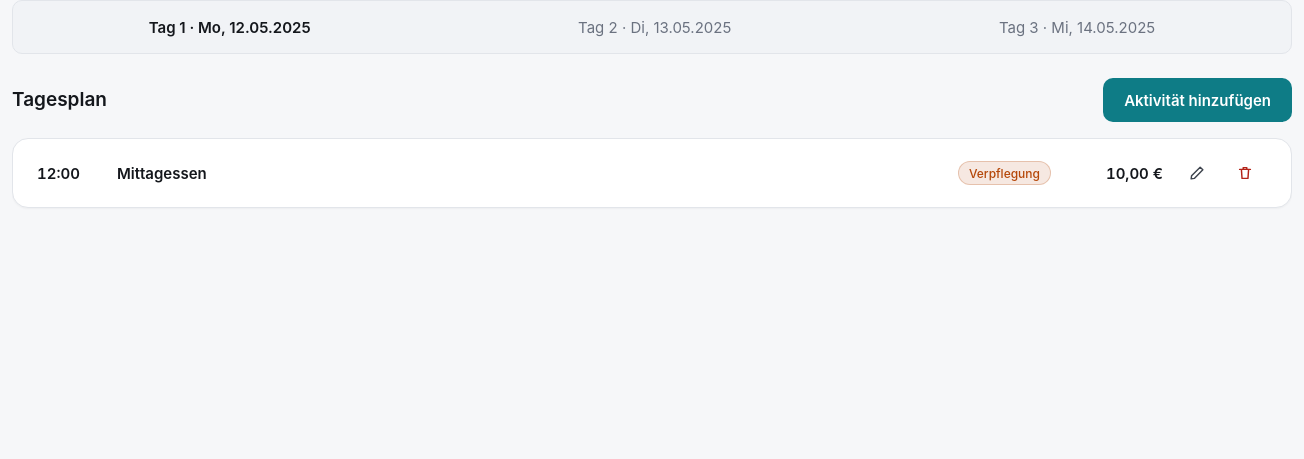
Test: TripDetailPage — day plan › places a new activity at its time-sorted position
The image size is (1304, 459).
Click the button "Aktivität hinzufügen" at (1198,100), box [1103,78,1292,122]
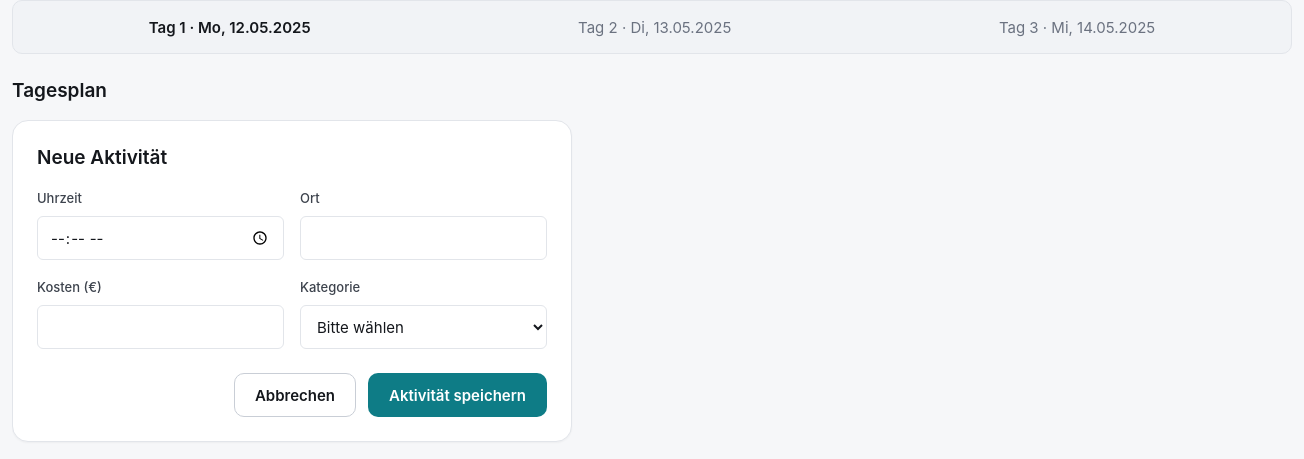
Type "09:00" into the time field labelled "Uhrzeit" at (160,238), box [37,216,284,260]
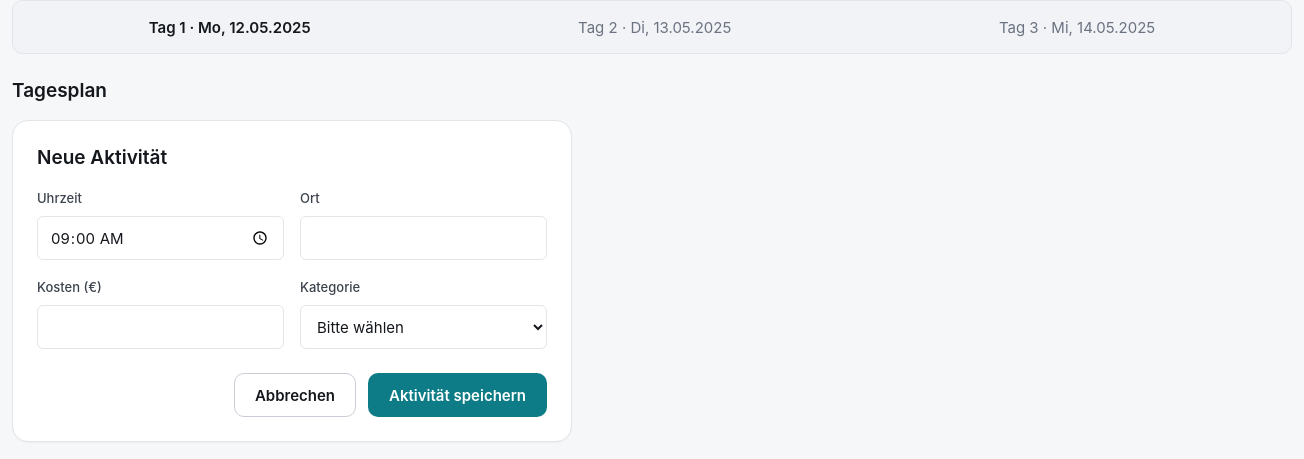
Type "Frühstück" into the field labelled "Ort" at (424,238), box [300,216,547,260]
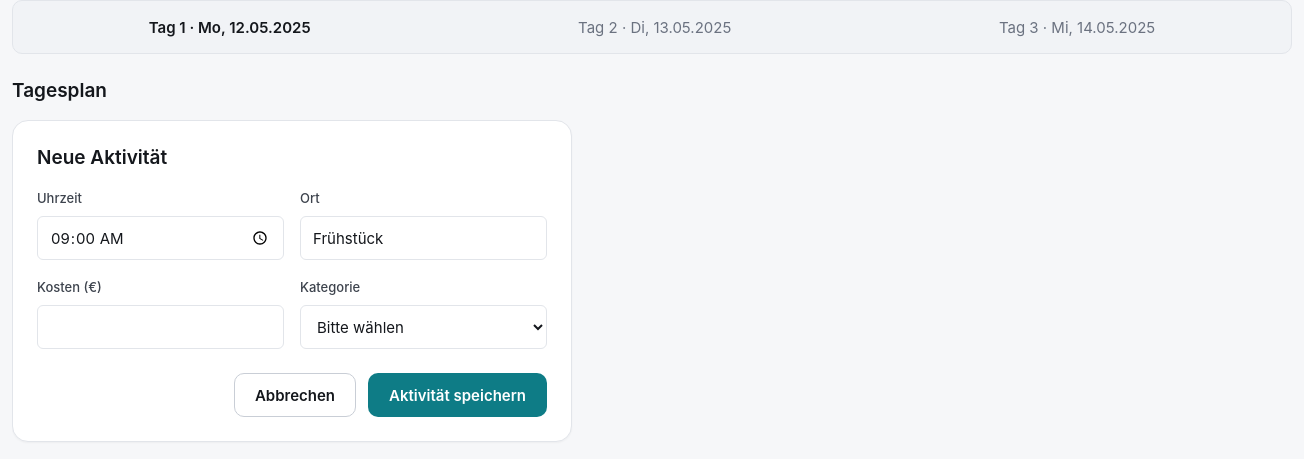
Type "5" into the number field labelled "Kosten (€)" at (160,327), box [37,305,284,349]
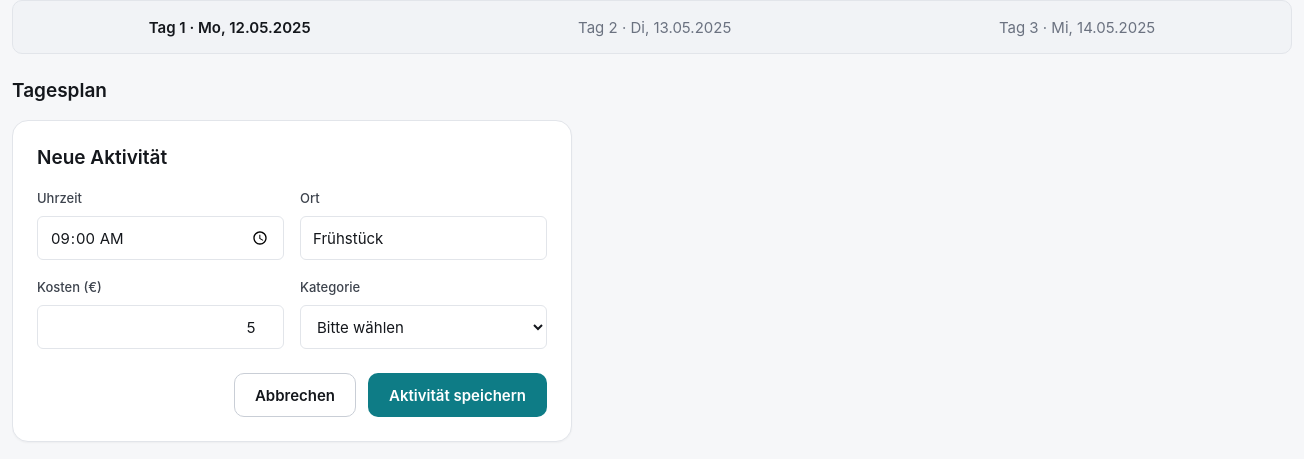
Select "Verpflegung" in the dropdown labelled "Kategorie" at (424,327), box [300,305,547,349]
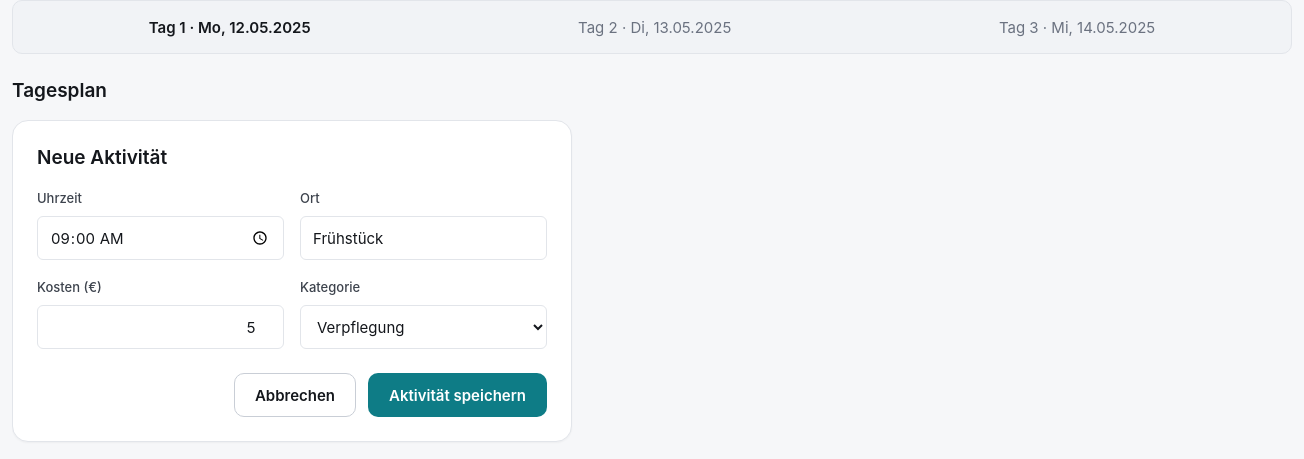
Click the button "Aktivität speichern" at (458,395), box [368,373,547,417]
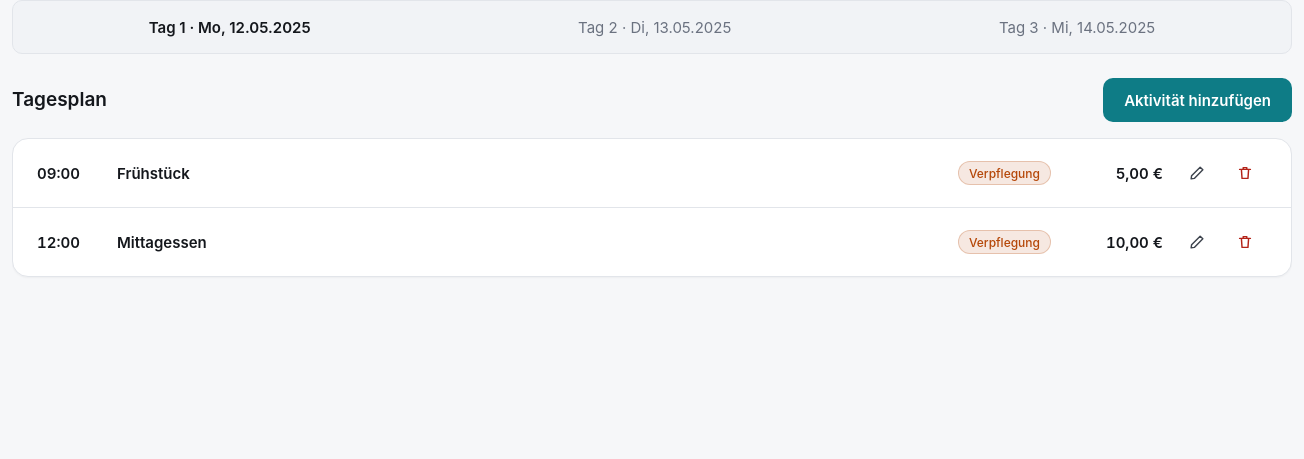
Expected: the number of list items is 2, [13,139,1291,208]; [13,208,1291,276]
Expected: the list item "09:00 Frühstück Verpflegung 5,00 €" is shown, [13,139,1291,208]
Expected: the list item "12:00 Mittagessen Verpflegung 10,00 €" is shown, [13,208,1291,276]
